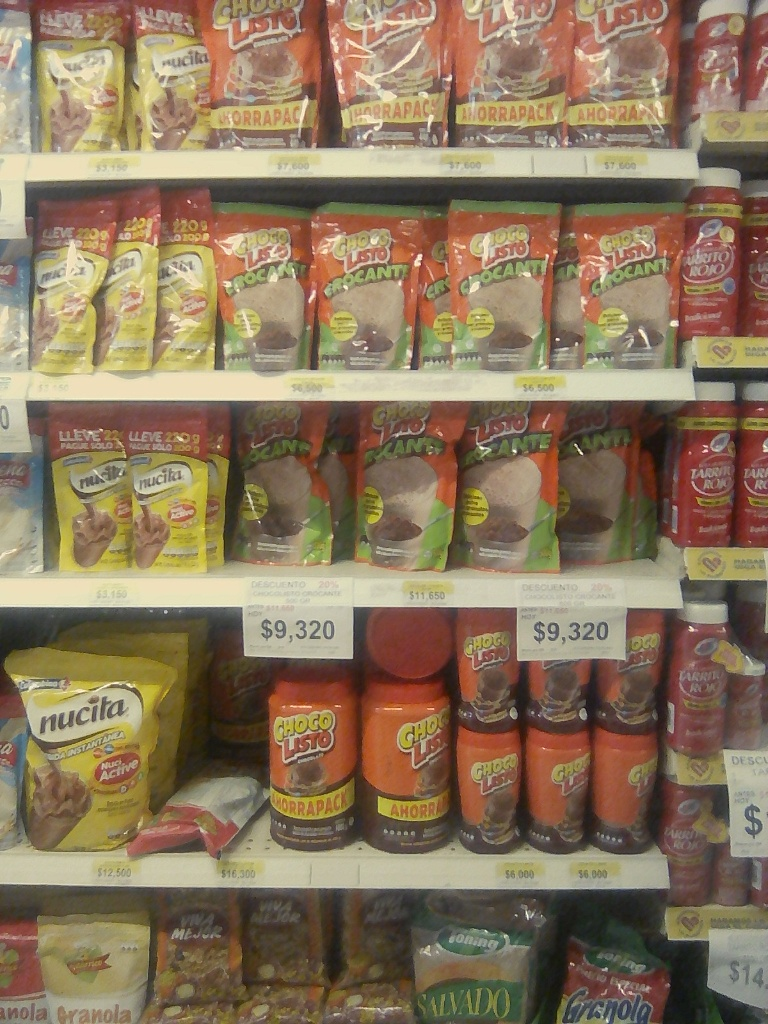COL0170102DYP25000: (570, 202, 688, 378)
COL0170102DYP50000: (227, 399, 342, 567)
COL0170103DYP44000: (571, 0, 682, 151)
COL0170103TRR00100: (261, 665, 364, 852)
COL0170103TRR30000: (454, 601, 527, 735)
